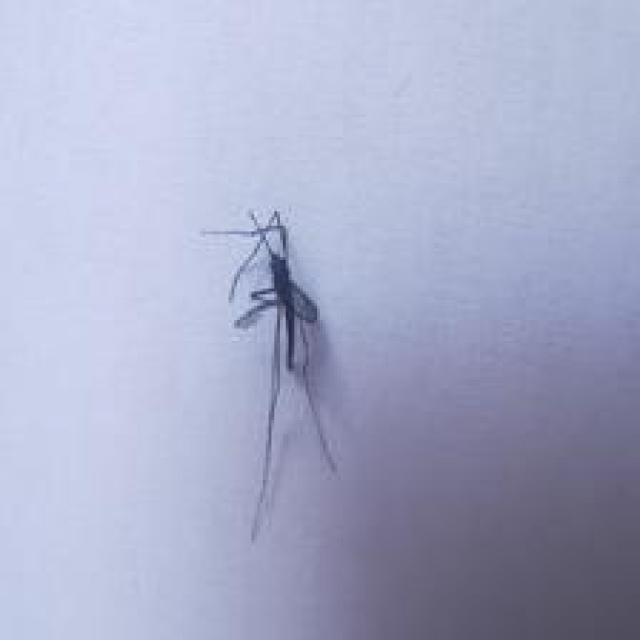Aedes albopictus: (200, 207, 340, 542)
